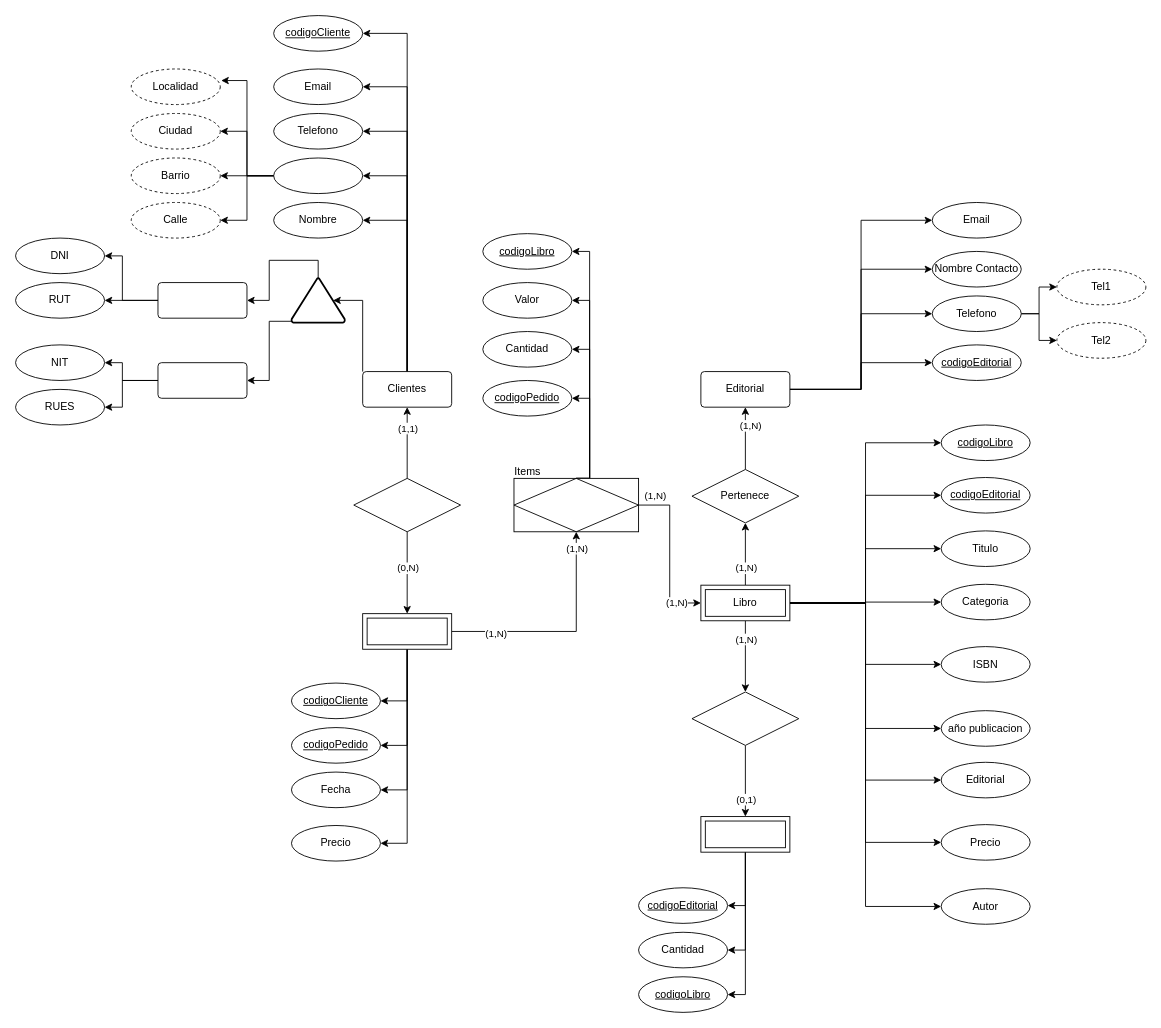
Some shapes in this 1161 by 1028 pixel diagram are drawn without their labels. The centre of each missing label's shape, as x and y in pixels:
Contiene: the point at 576,504
Direccion: the point at 318,175
Existe: the point at 745,718
ID: the point at 317,300
Inventario: the point at 745,834
Pedido: the point at 407,631
Persona juridica: the point at 202,380
Persona Natural: the point at 202,300
Realiza: the point at 407,504
